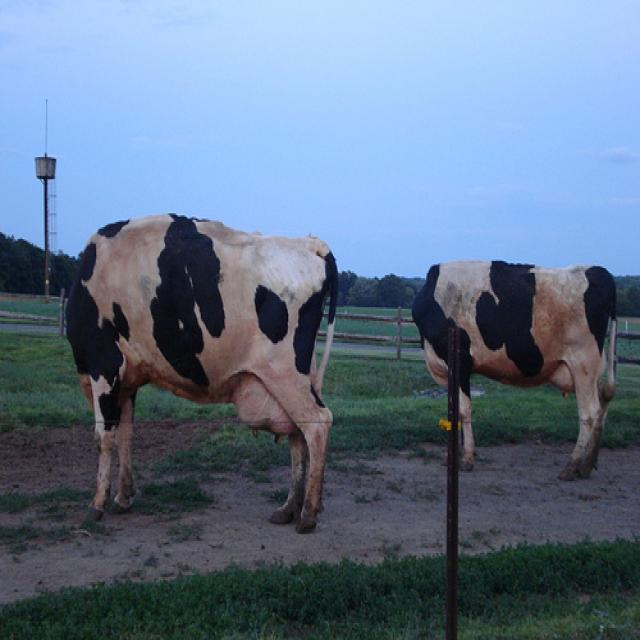cow: (64, 218, 335, 536), (410, 258, 616, 478)
